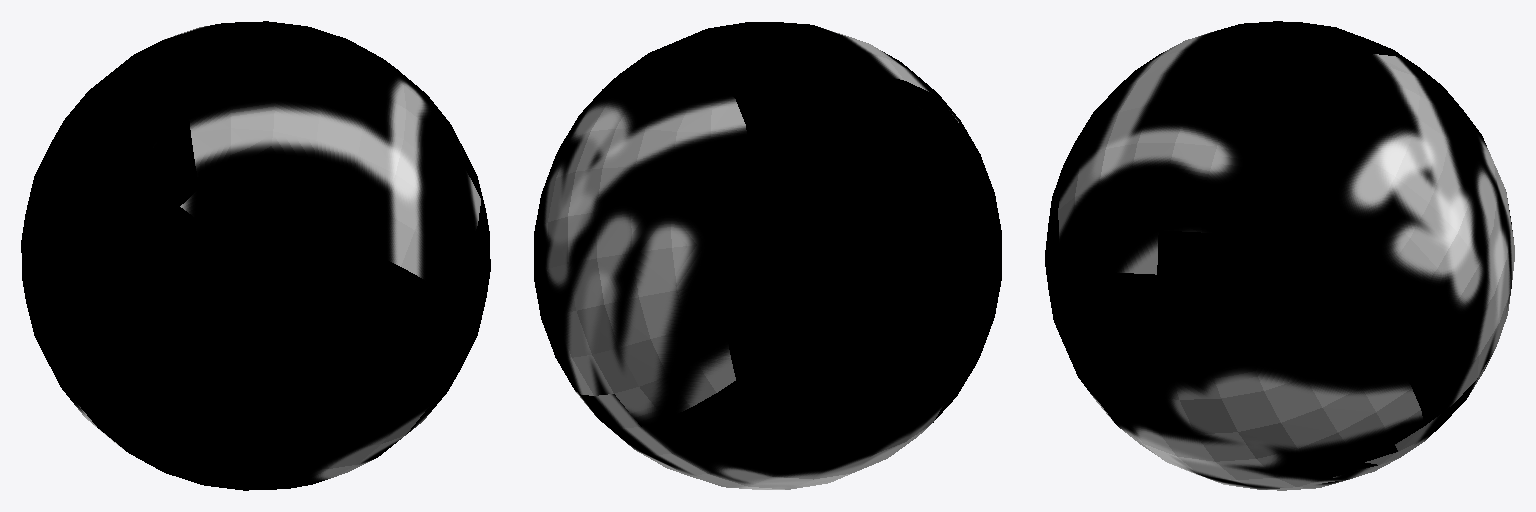
3 views of the same model, side by side, from view 1: azimuth 30°, elevation 25°; view 2: azimuth 150°, elevation 25°; view 3: azimuth 270°, elevation 25° (orthographic).
Parts seen in each view (by area): view 1: Moon_Cube.002; view 2: Moon_Cube.002; view 3: Moon_Cube.002.
Part boxes in pixels (left/top/right/bottom): Moon_Cube.002: left=21, top=21, right=490, bottom=490; Moon_Cube.002: left=534, top=22, right=1001, bottom=489; Moon_Cube.002: left=1045, top=21, right=1514, bottom=490.
Bounding box in the file's own units: 3.48 × 3.48 × 3.49.
Materials: 1 (1 with a texture image).